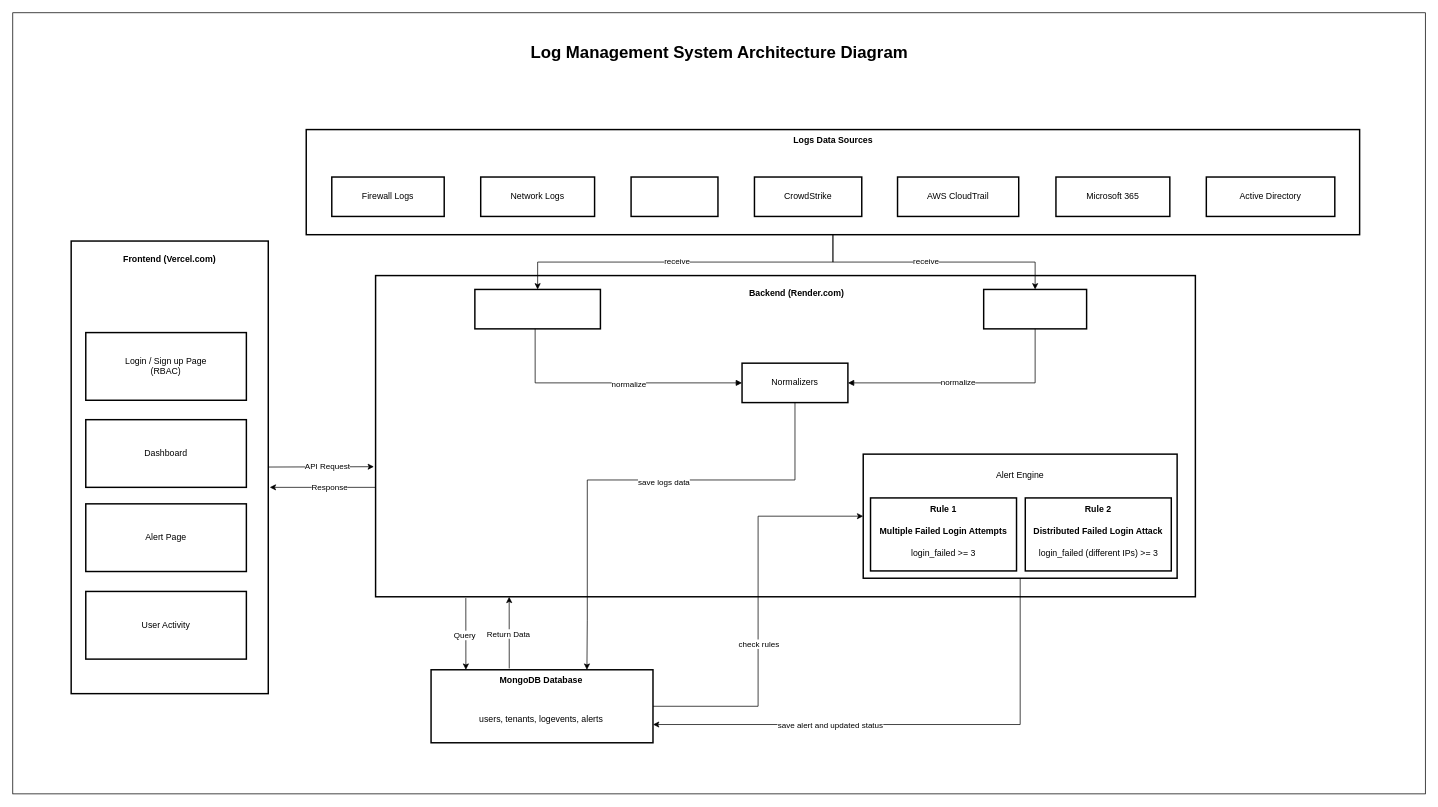
Image size: 1438x807. Some labels were removed from this diagram. The shapes that lost their labels are listed below. From the top down, each one's centre as x and y in pixels, then its label:
pixel 674 196: API Logs
pixel 537 308: HTTP API
pixel 1035 308: File Upload (JSON / CSV)
